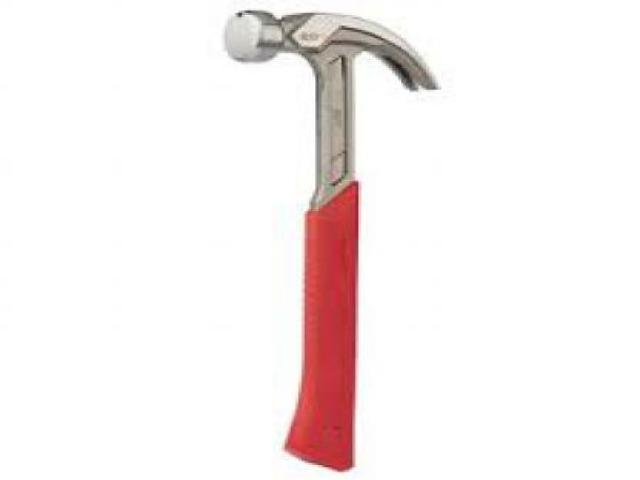Hammer: (228, 10, 438, 470)
